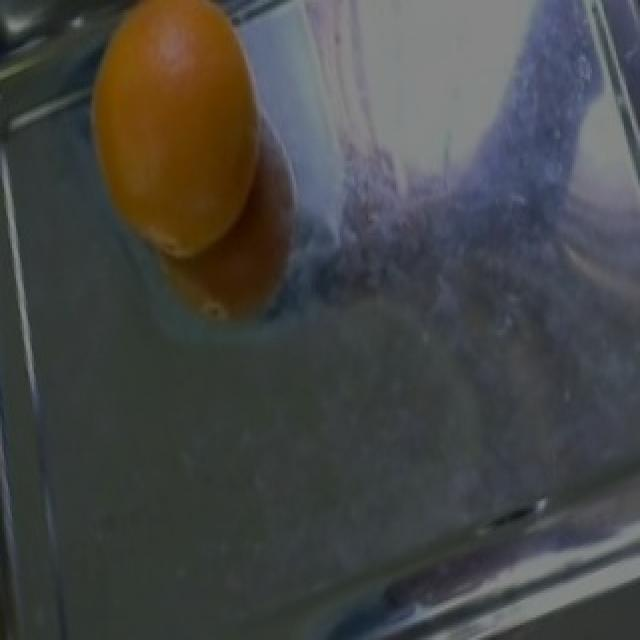Fruit: (72, 10, 284, 268)
